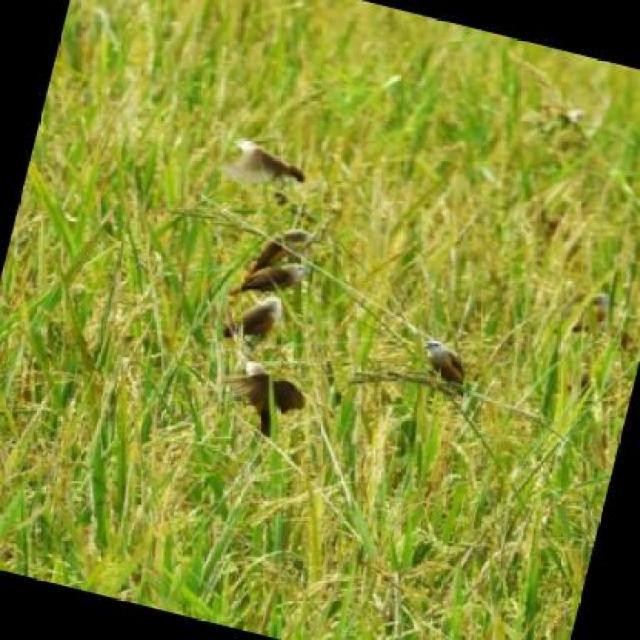Bird: (226, 352, 309, 448), (222, 123, 309, 204), (249, 223, 325, 297), (411, 332, 478, 410), (226, 297, 315, 348)
